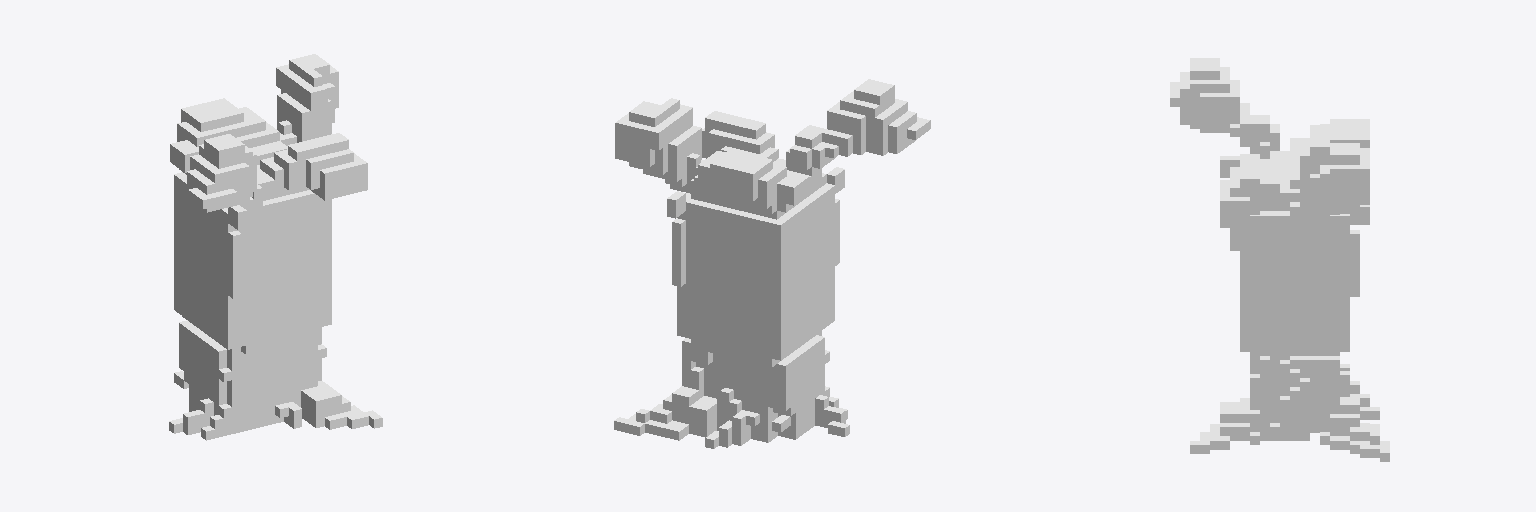
The model's file is BuildingEffectivenessMudriyDub.obj.
3 views of the same model, side by side, from view 1: azimuth 30°, elevation 25°; view 2: azimuth 150°, elevation 25°; view 3: azimuth 270°, elevation 25° (orthographic).
Visible parts, largest first — view 1: object 1; view 2: object 1; view 3: object 1.
Boxes of the visible parts, x1=… form: object 1: x1=169, y1=54, x2=382, y2=440; object 1: x1=614, y1=79, x2=930, y2=448; object 1: x1=1170, y1=58, x2=1389, y2=461.
Size of the model in its own units: 2.5 by 3.5 by 2.2.